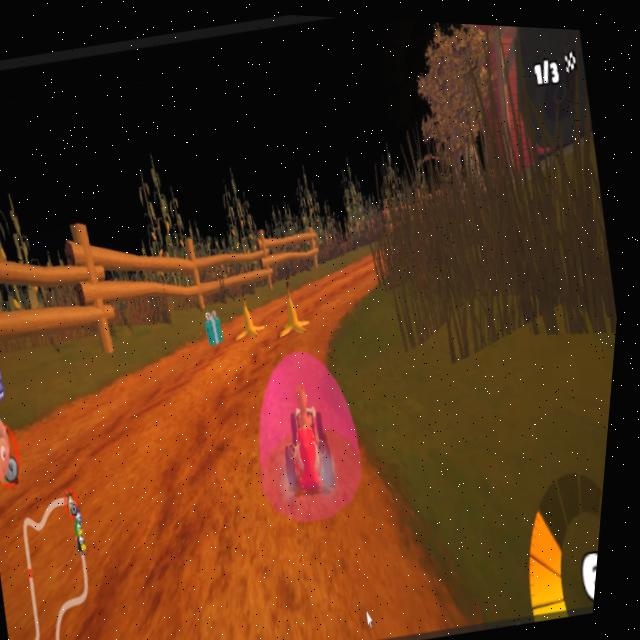bonus: (201, 302, 235, 351)
obstacle: (272, 277, 323, 350), (234, 294, 275, 345)
off_track: (332, 113, 634, 522)
track: (42, 346, 280, 551), (312, 245, 386, 292)
